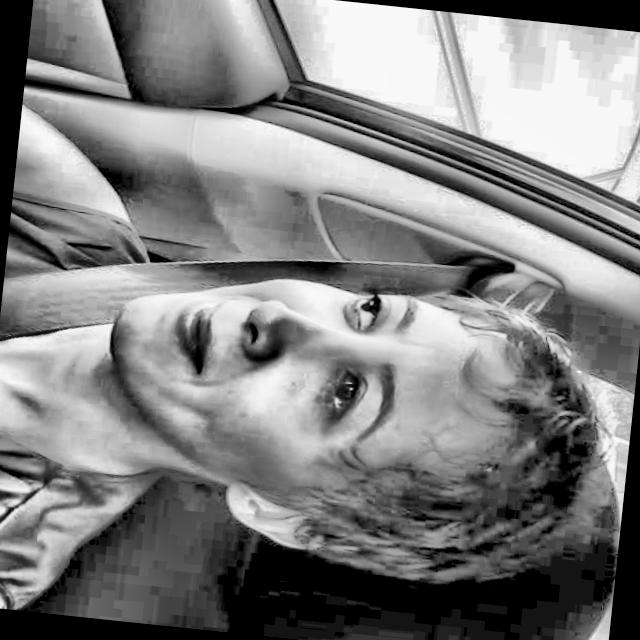closed_mouth: (148, 277, 234, 397)
open_eyes: (308, 351, 378, 437), (329, 283, 406, 343)
